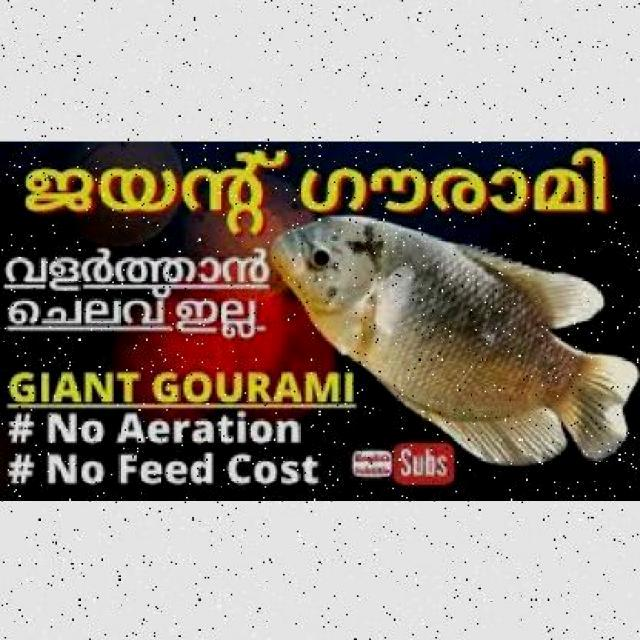gurame: (268, 216, 630, 461)
